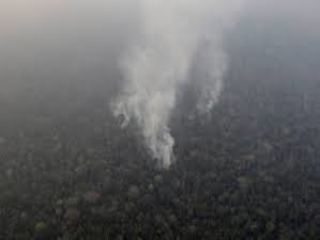smoke: (112, 4, 241, 180)
